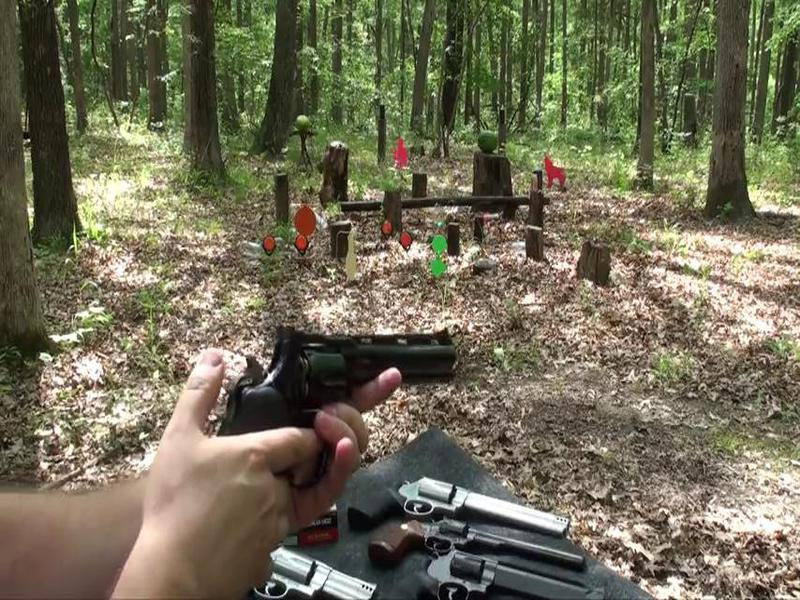Revolver: (213, 324, 490, 500)
